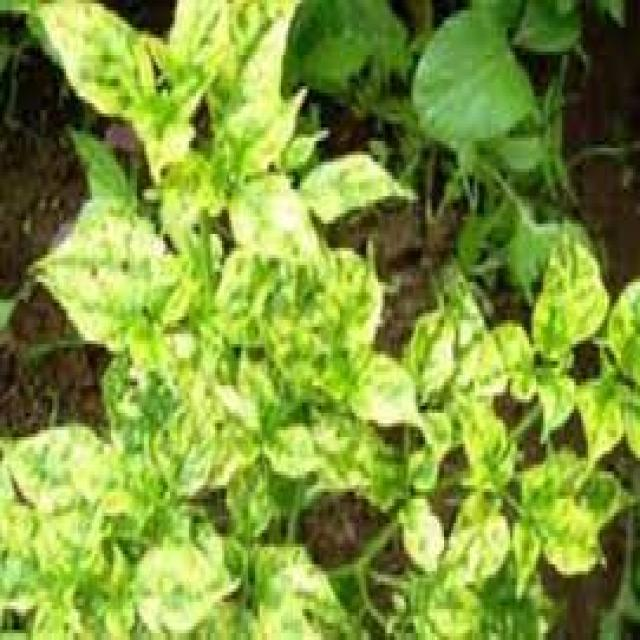virus_kuning: (36, 0, 158, 125), (304, 145, 423, 230), (538, 497, 608, 574)
